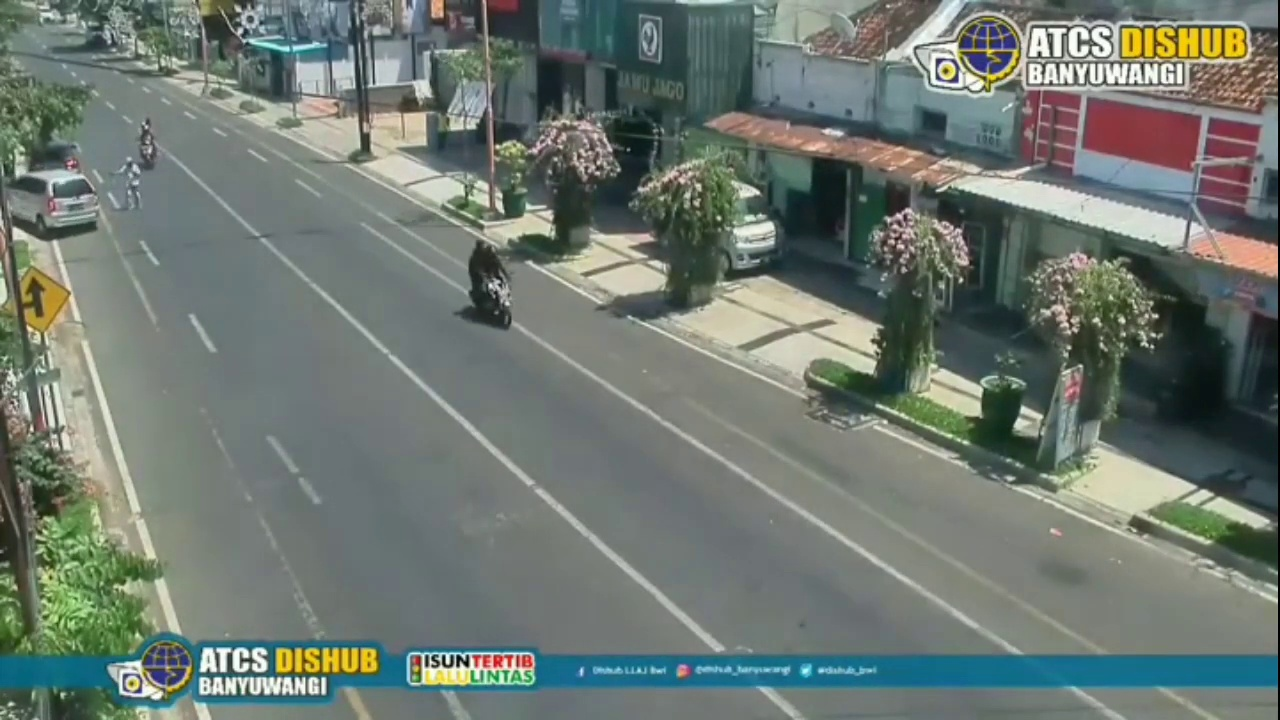car: (714, 174, 784, 282), (9, 170, 99, 241)
motorbike: (466, 233, 513, 334), (139, 118, 162, 173)
